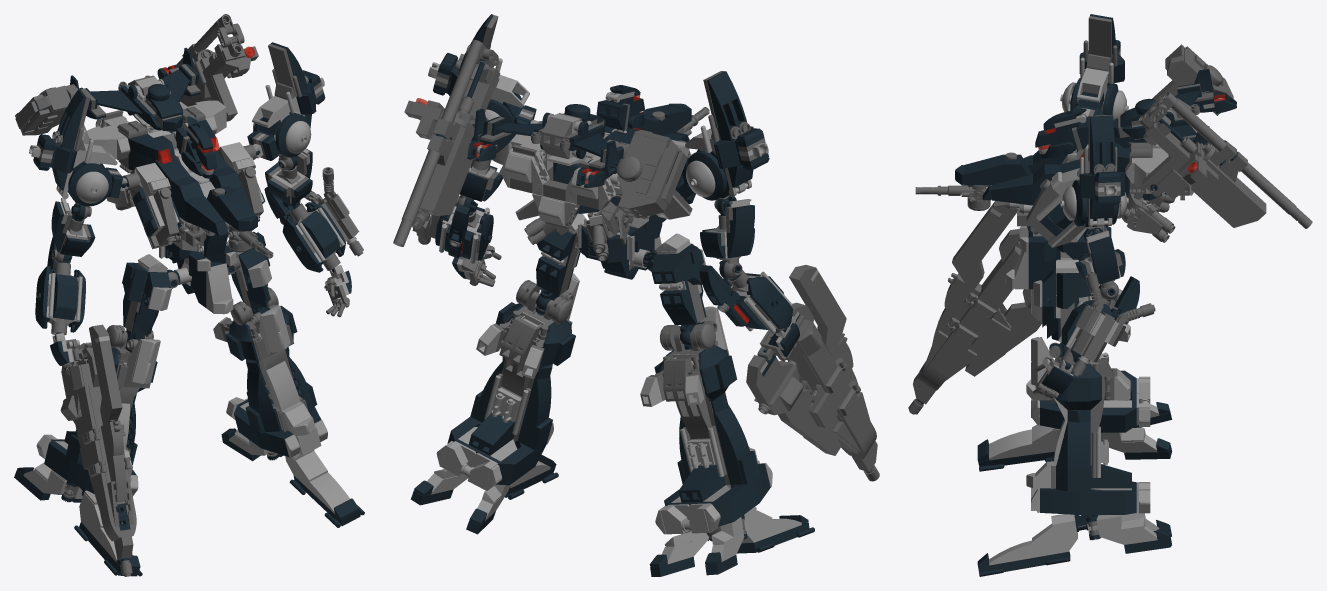
The model's file is cr-c98e2-nineball.dae.
The picture shows the model from 3 angles, left to right: view 1: azimuth 30°, elevation 25°; view 2: azimuth 150°, elevation 25°; view 3: azimuth 270°, elevation 25°; orthographic projection. The views are drawn at different scales.
Bounding box in the file's own units: 674 × 703 × 898.
